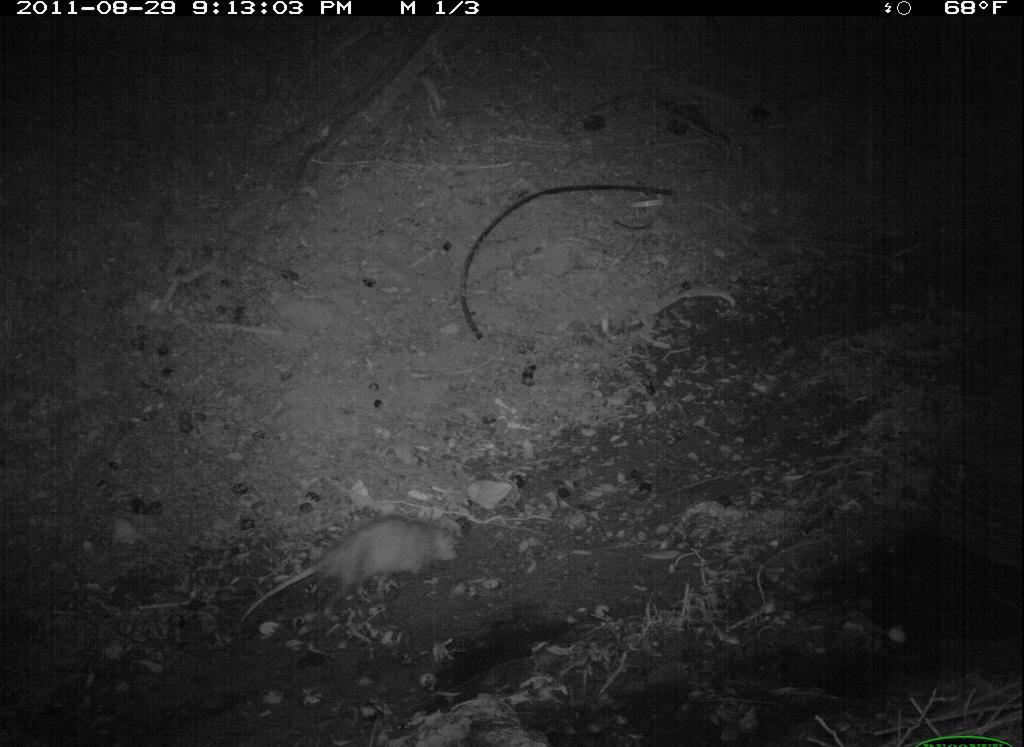opossum: (237, 510, 473, 634)
